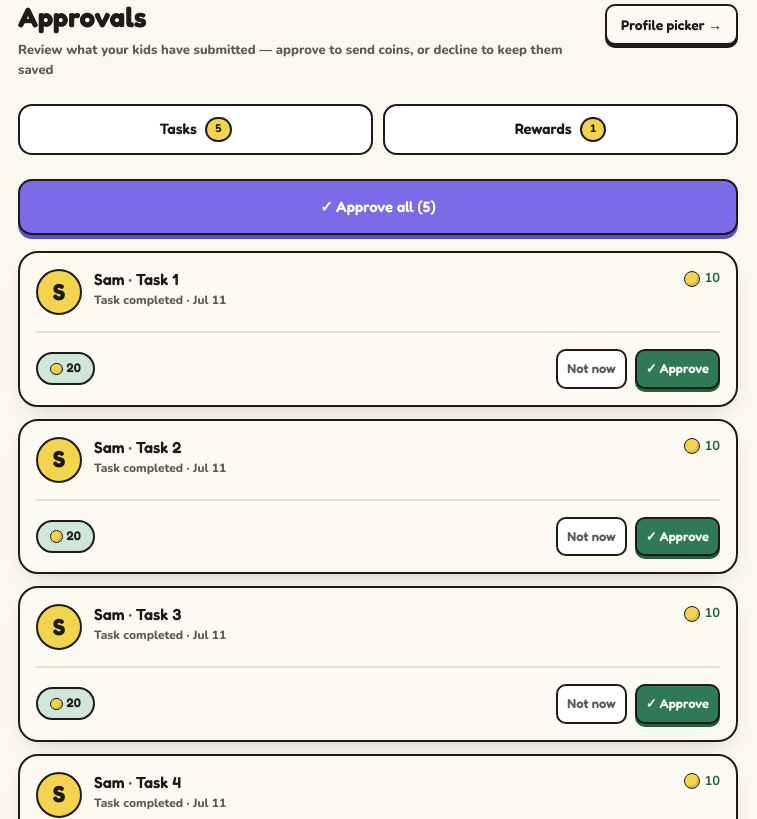
Test case: ParentApprovalsPage › locks every approval while a single row's approval is in flight
This screenshot has width=757, height=819.
Check: the tab "Tasks 5" is shown, box [18,104,373,154]
Click the 1st button "✓ Approve".
click(677, 369)  # box [635,349,720,388]
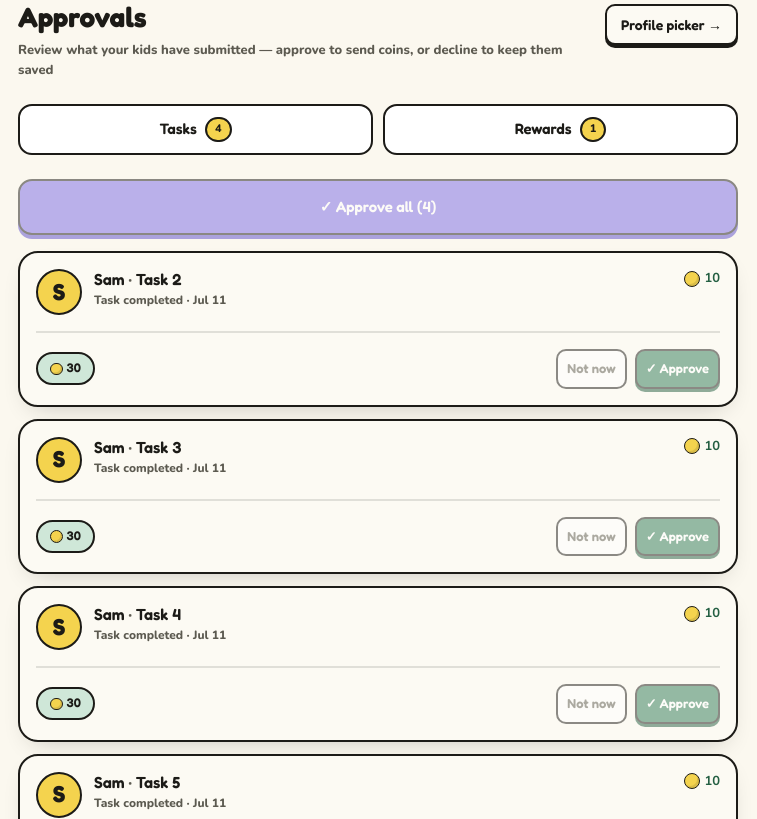
Check: the 2nd button "✓ Approve" is disabled
Check: the button "✓ Approve all (4)" is disabled, box [18,178,738,235]
Click the 2nd button "✓ Approve".
click(677, 536)  # box [635,516,720,556]
(page scrolled)
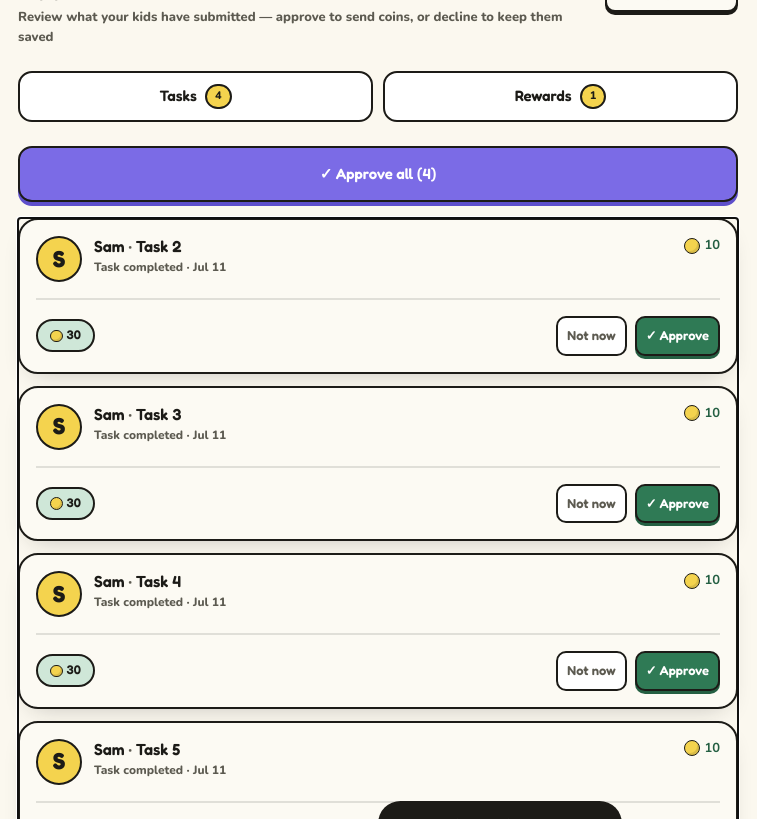
Check: the 1st button "✓ Approve" is enabled, box [635,316,720,356]
